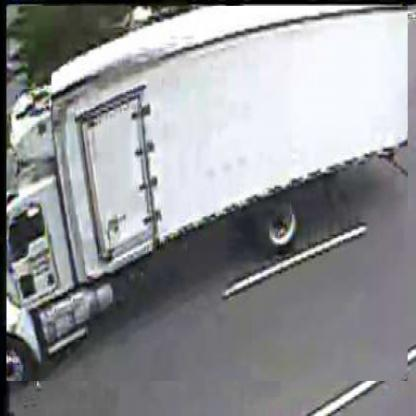truck: (7, 7, 409, 383)
